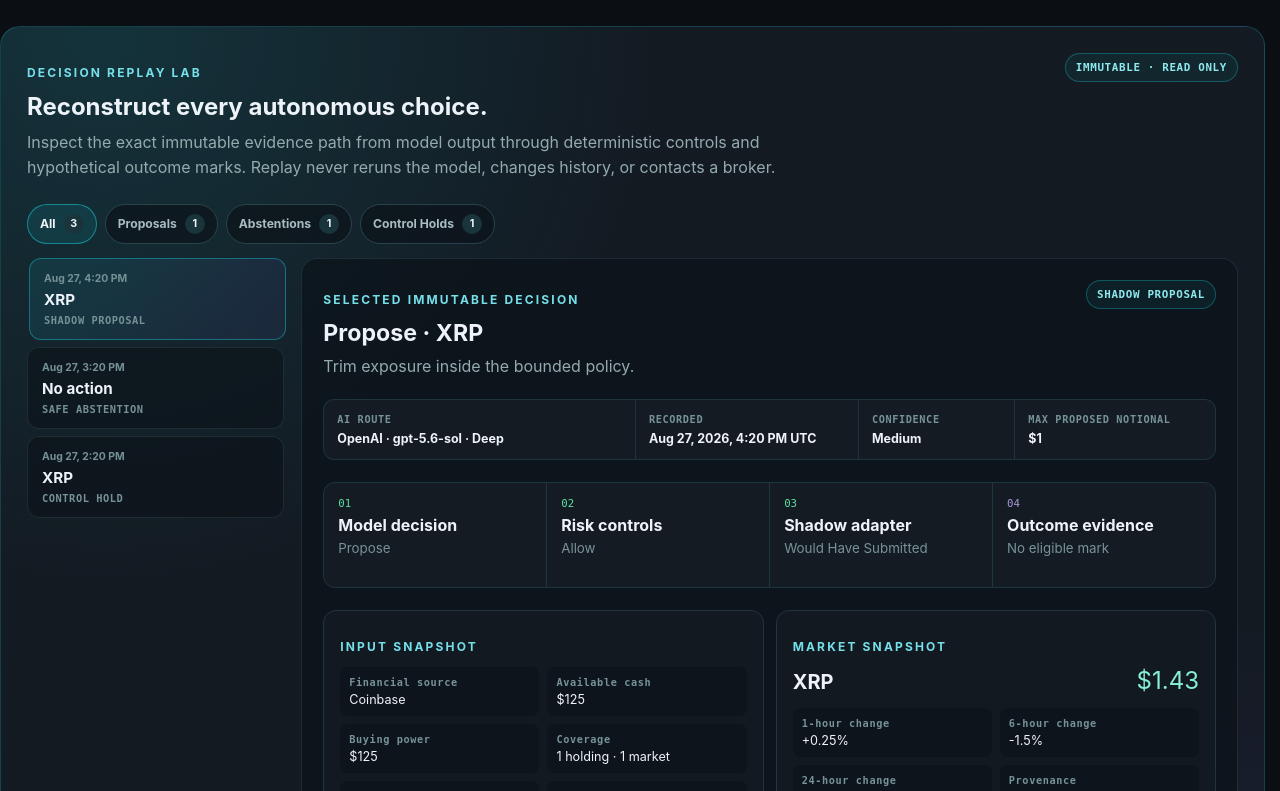
Decision Replay Lab › filters and replays abstentions and deterministic control holds
Click the button "Abstentions 1": [289, 224] box [226,204,352,244]
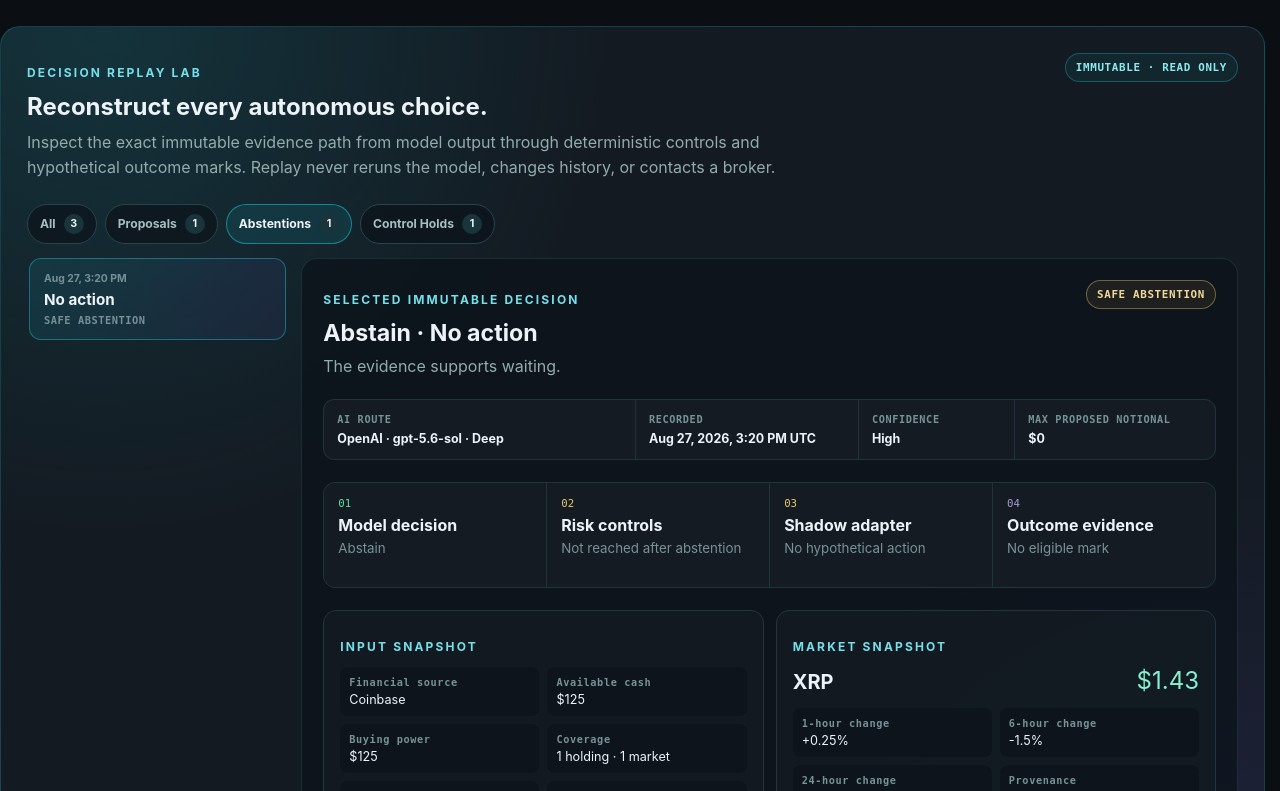
Expected: the heading "Abstain · No action" is shown, [323,319,538,347]
Expected: the text "Not reached after abstention" is shown, [561,540,755,558]
Expected: the text "No hypothetical action" is shown, [784,540,926,556]
Click the button "Control Holds 1": [428, 224] box [360,204,495,244]
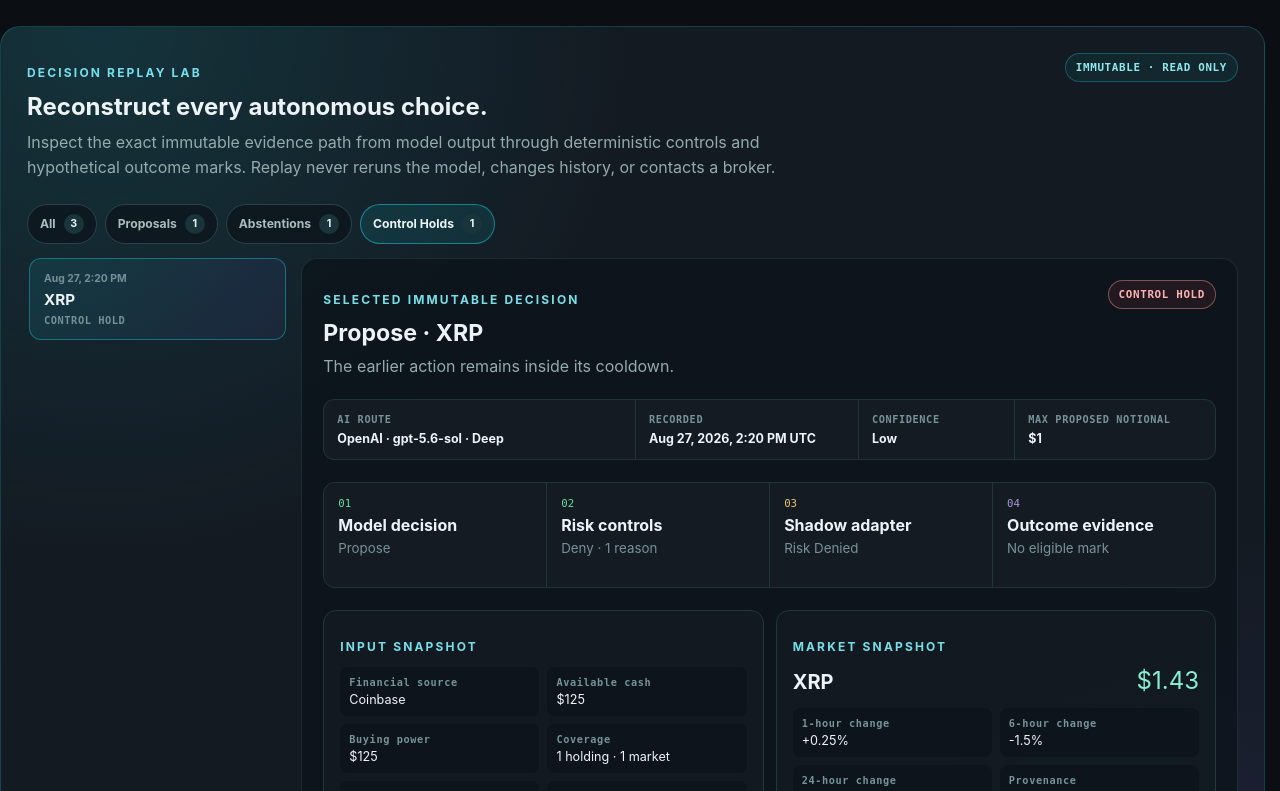
Expected: the text "CONTROL HOLD" is shown 2 times, [44,314,125,326]; [1108,280,1216,309]
Expected: the text "Risk Denied" is shown, [784,540,858,556]
